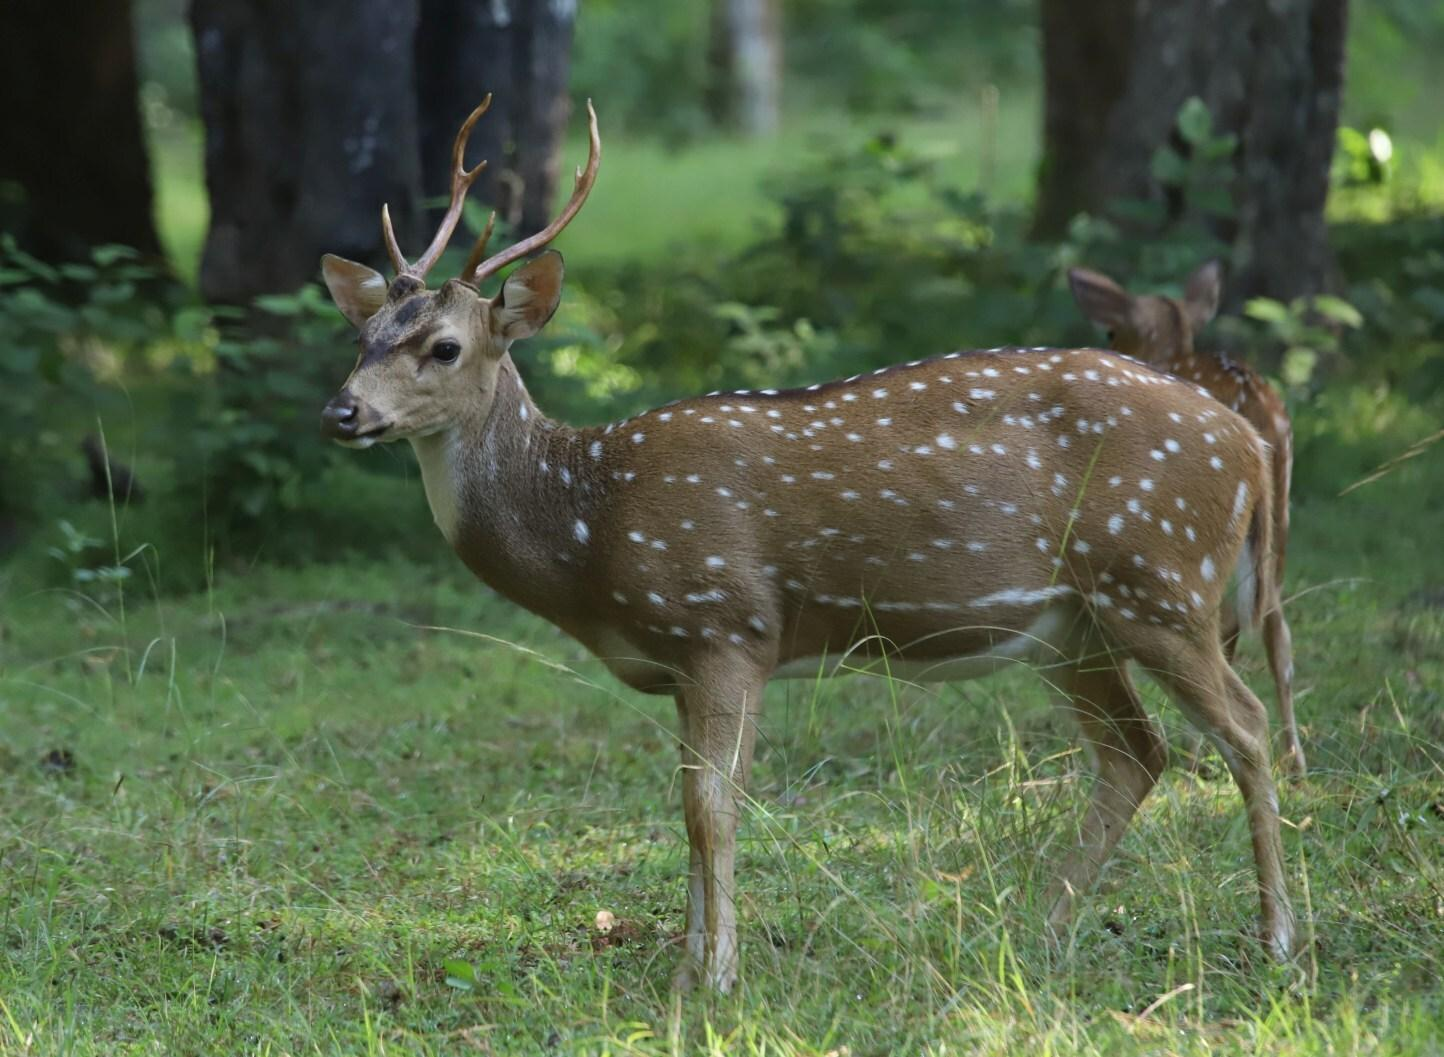Deer: (322, 103, 1293, 990)
